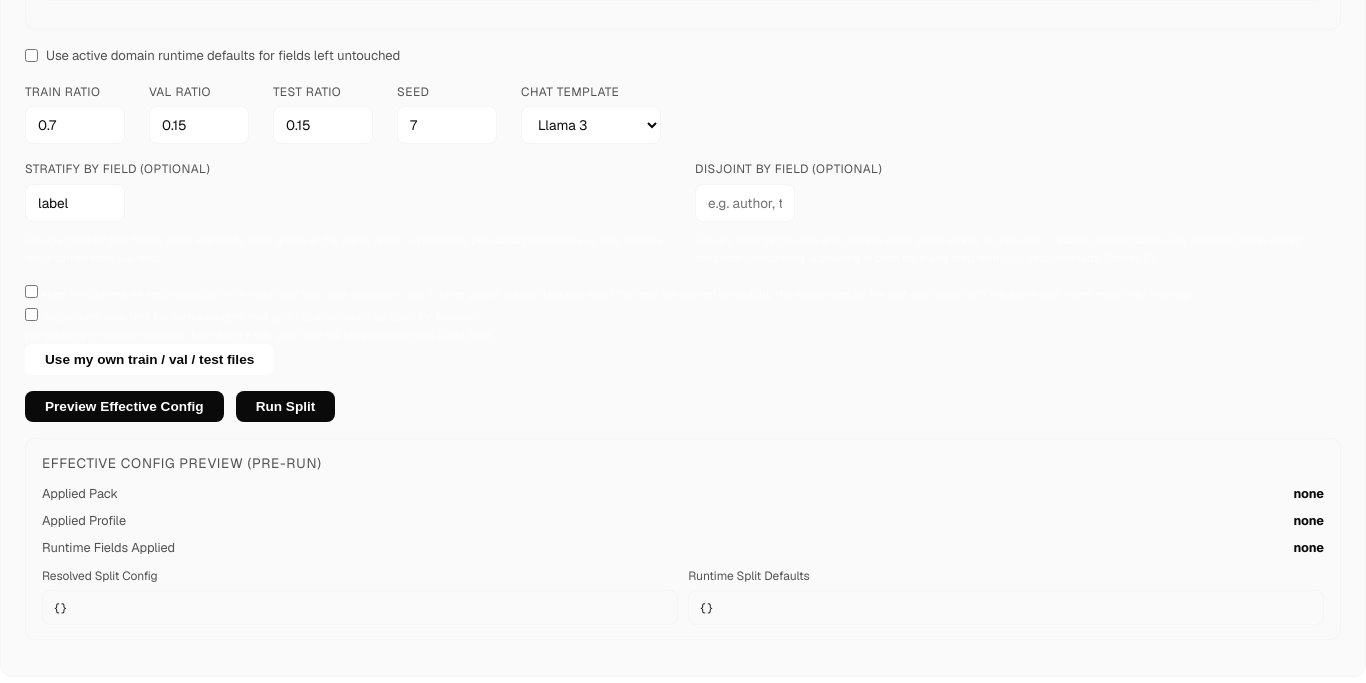
Test: DatasetPrepPanel — split-form hydration from the active prepared version › drops the replace option once the replace re-split returns a manifest without predefined_test_active
(page scrolled)
What coordinates should you click on to do the following:
click the checkbox with test id "split-discard-predefined-test"
I would click on:
 (32, 315)
Its box is x1=25 y1=308 x2=38 y2=321.
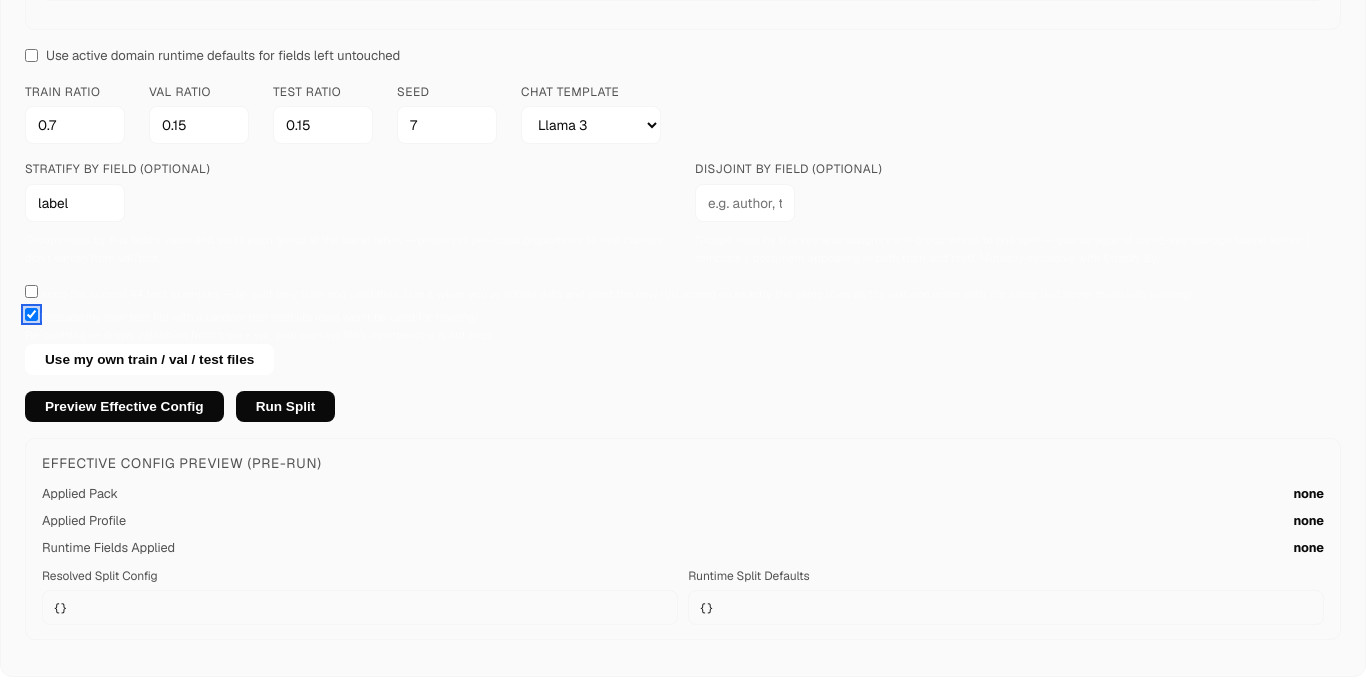
What coordinates should you click on to do the following:
click the button "Run Split"
I would click on:
 (285, 406)
Its box is x1=236 y1=391 x2=335 y2=422.
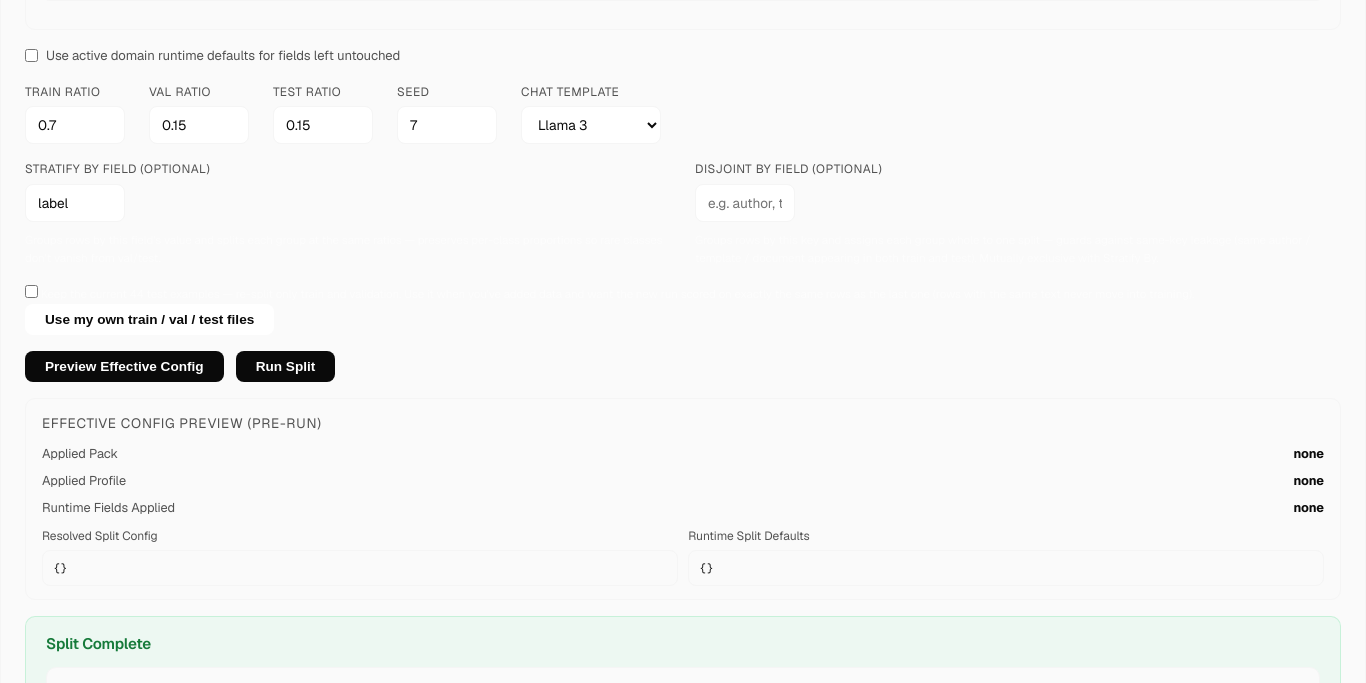
Check: the checkbox with test id "split-discard-predefined-test" is gone
